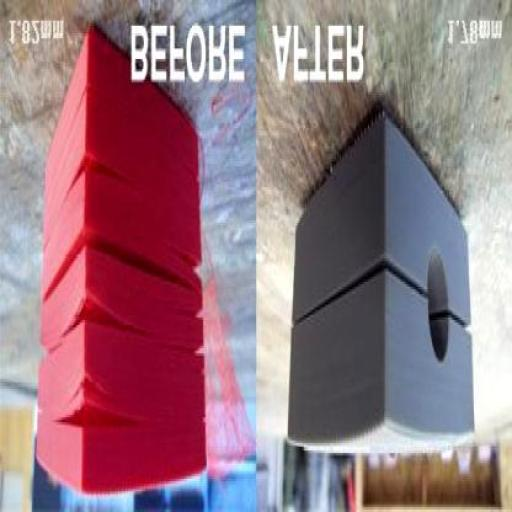cracks: (302, 223, 423, 332), (50, 219, 158, 278), (49, 385, 160, 437), (57, 284, 142, 348), (60, 148, 144, 210), (165, 234, 209, 324), (66, 74, 128, 136), (456, 281, 482, 357), (159, 336, 210, 368), (182, 149, 208, 194)
